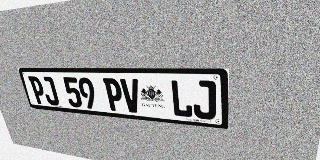5: (62, 77, 83, 108)
9: (77, 77, 98, 109)
J: (192, 80, 216, 120), (40, 76, 60, 106)
L: (170, 80, 193, 118)
P: (103, 78, 125, 112), (28, 76, 48, 105)
V: (120, 78, 142, 113)
